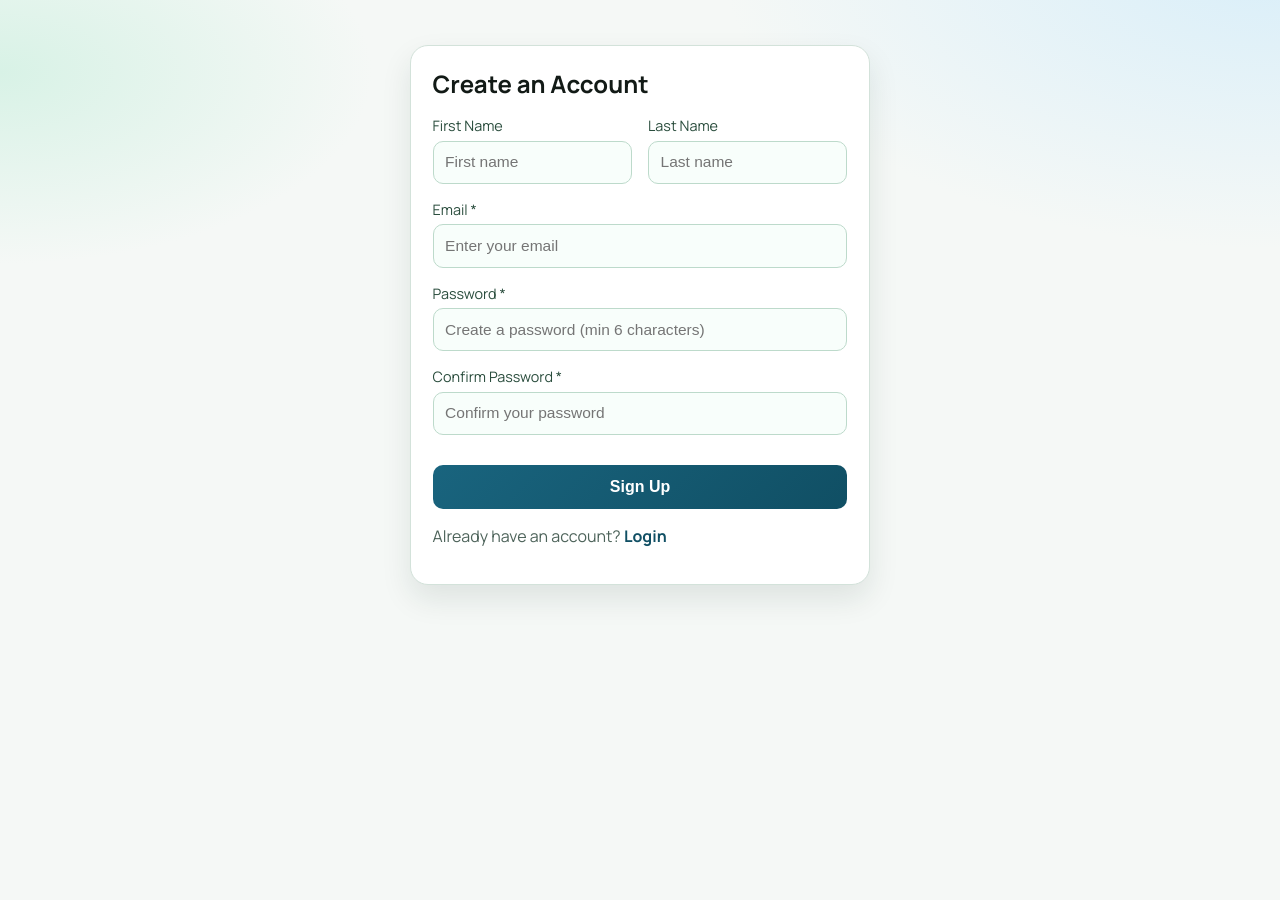
Test: Integration Tests - Signup Flow › should validate password confirmation locally
Type "test@example.com" into the field with test id "email-input" at (640, 246), box [433,224,847,268]
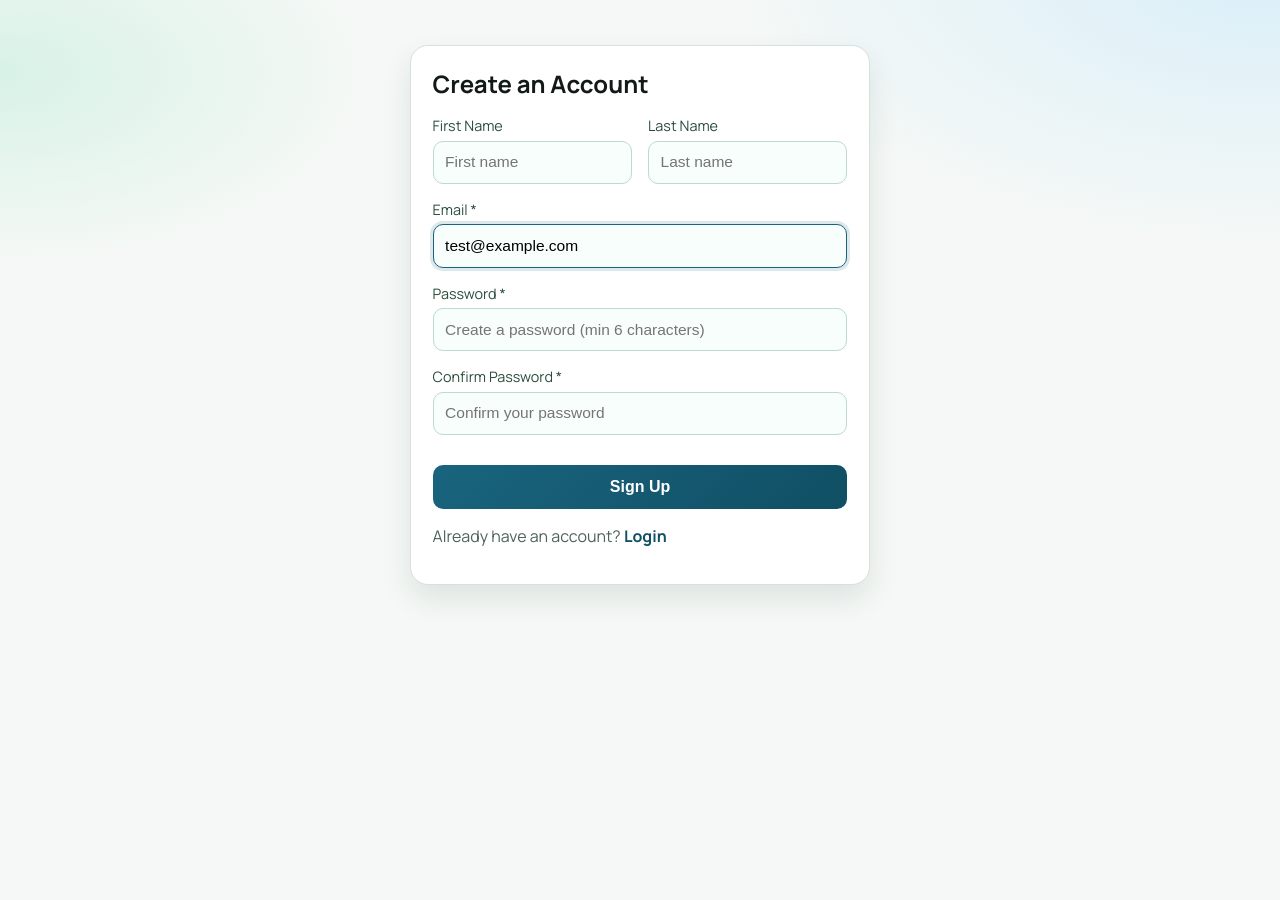
Type "password123" into the password field with test id "password-input" at (640, 330), box [433,308,847,351]
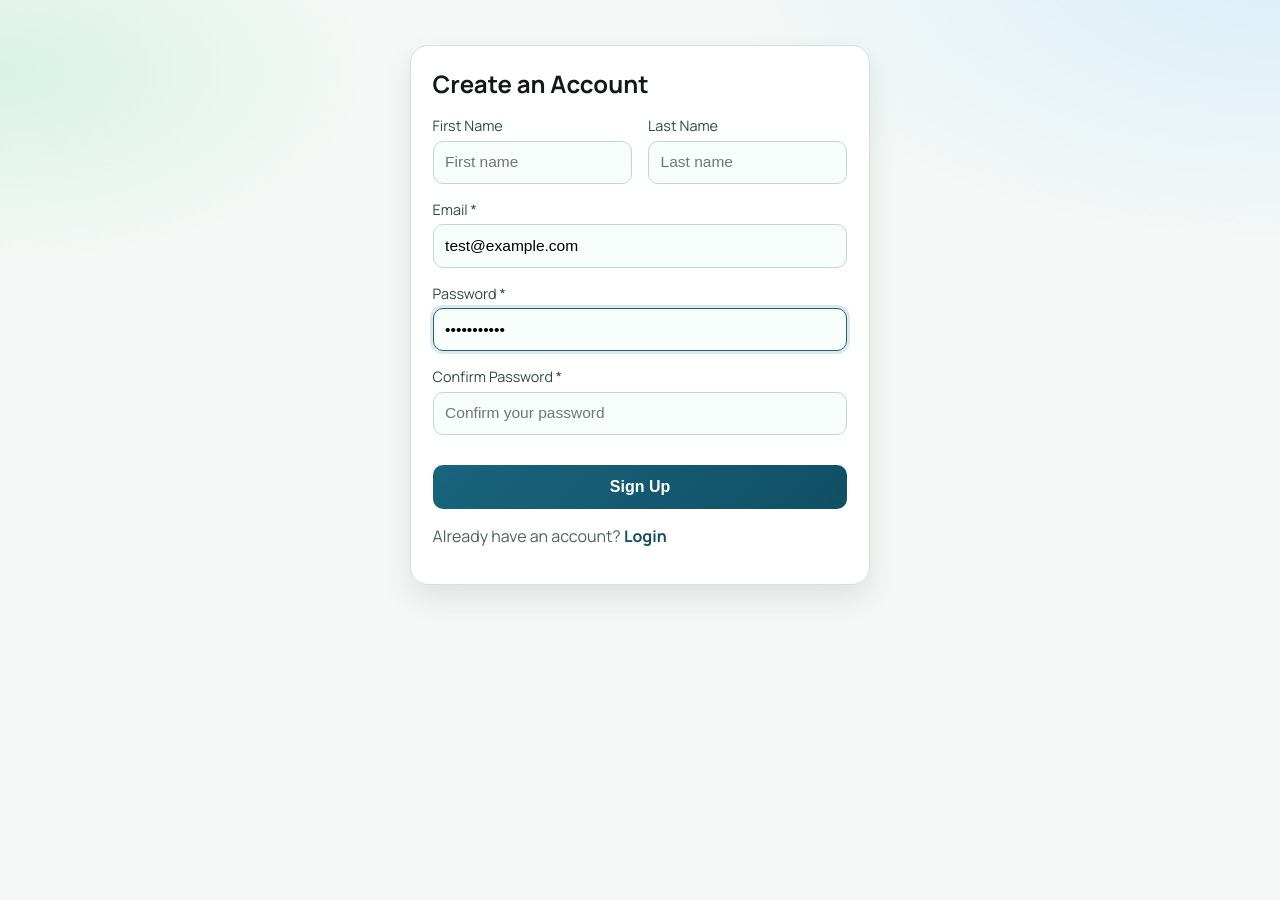
Type "differentpassword" into the password field with test id "confirm-password-input" at (640, 413), box [433,392,847,435]
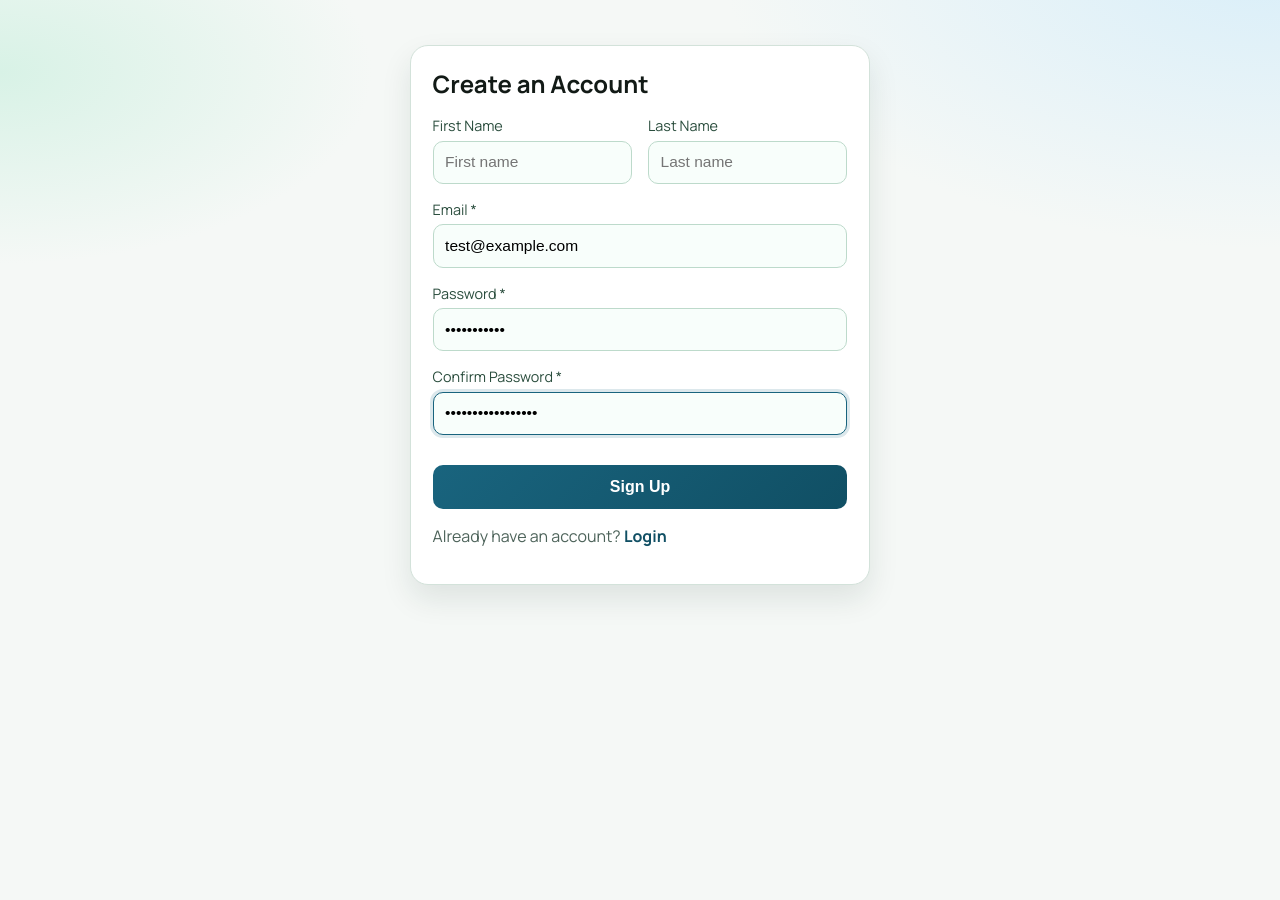
Click the button with test id "signup-button" at (640, 487), box [433,465,847,509]
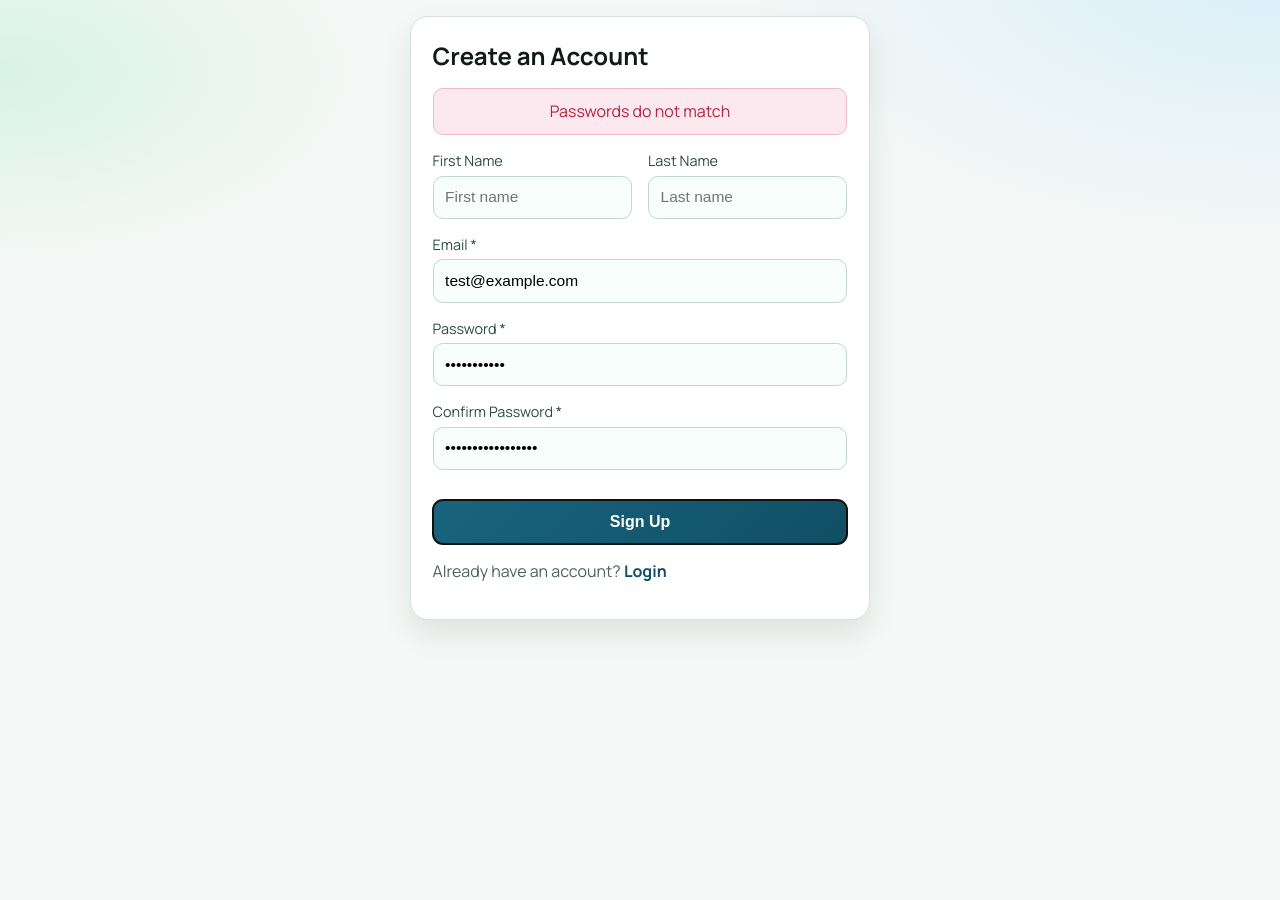
Expected: the message reads "Passwords do not match", [550,100,730,122]
